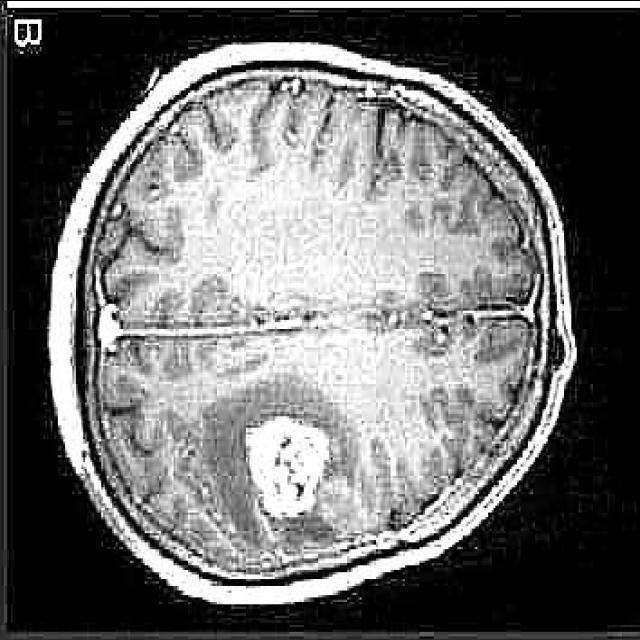tumor: (246, 415, 331, 521)
